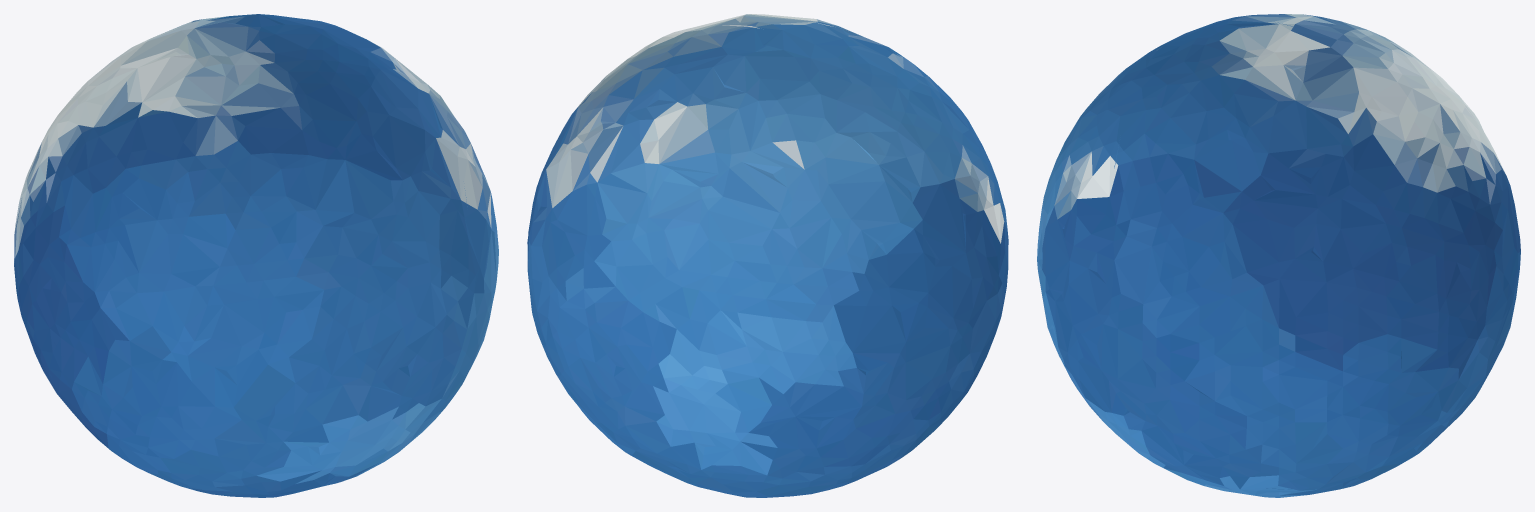
Rendered from skybox.glb.
3 views of the same model, side by side, from view 1: azimuth 30°, elevation 25°; view 2: azimuth 150°, elevation 25°; view 3: azimuth 270°, elevation 25° (orthographic).
Visible parts, largest first — view 1: GeoSphere001; view 2: GeoSphere001; view 3: GeoSphere001.
Boxes of the visible parts, bbox=[...] form: GeoSphere001: bbox=[14, 14, 498, 497]; GeoSphere001: bbox=[527, 14, 1008, 497]; GeoSphere001: bbox=[1037, 14, 1520, 497].
Bounding box in the file's own units: 1.37 × 1.37 × 1.37.
1 material, 1 textured.
